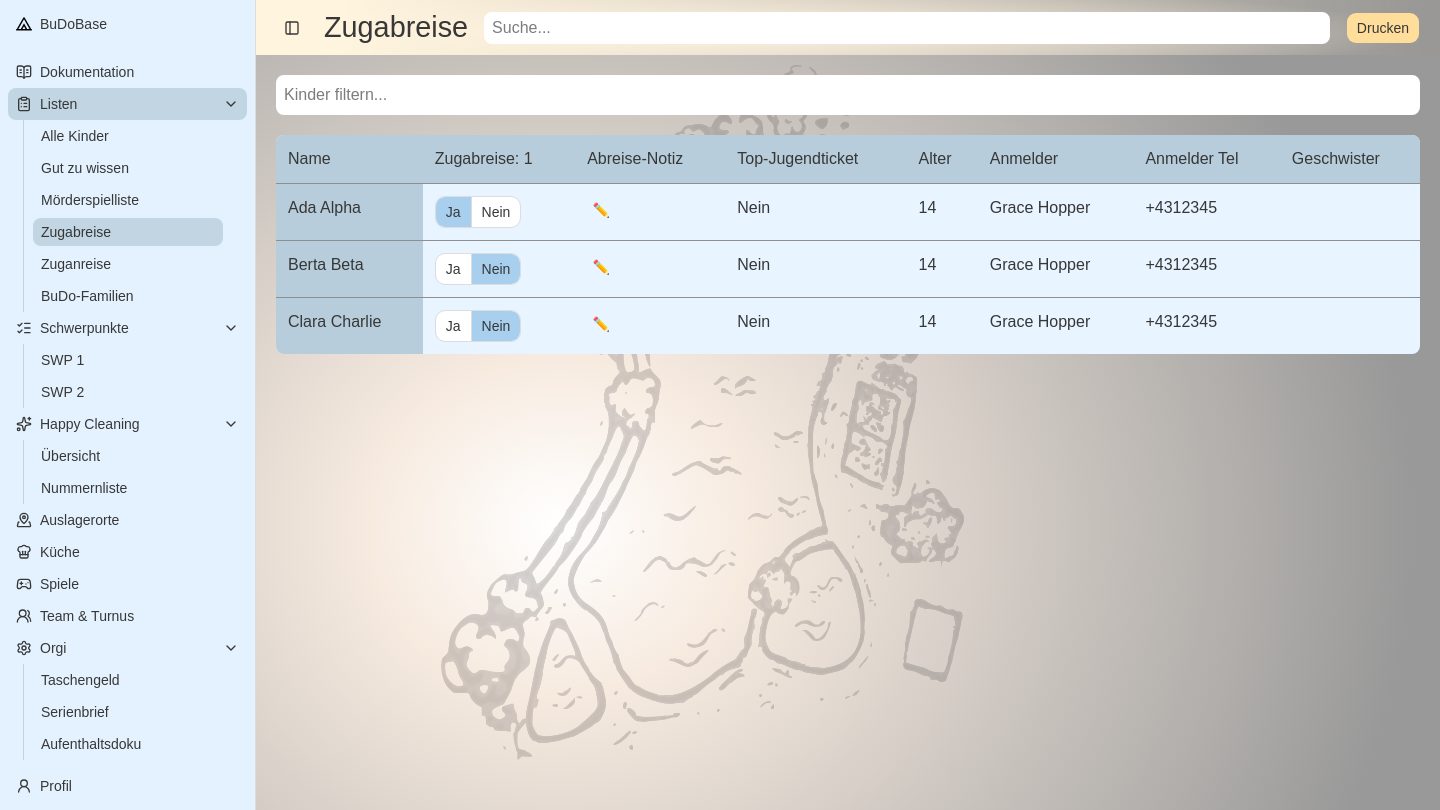
Test: attendance pages › refreshes only the current transport contract without moving the toggled row
This screenshot has width=1440, height=810.
Click the button "Ja" next to "Clara Charlie": (453,326) x1=435 y1=310 x2=472 y2=342
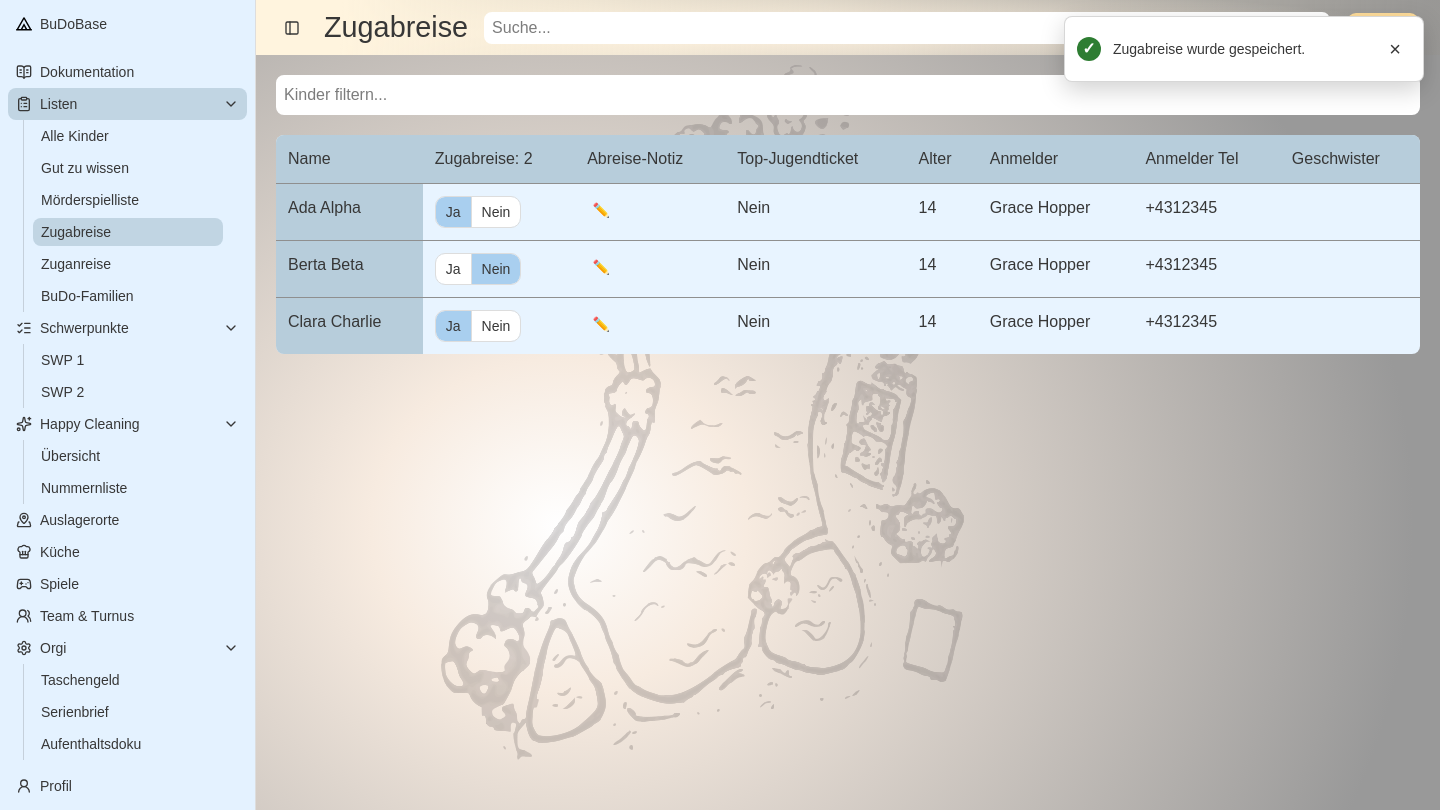
Now the button with aria-label "Zugabreise: 2 sortieren" is shown, box x1=435 y1=147 x2=563 y2=171
